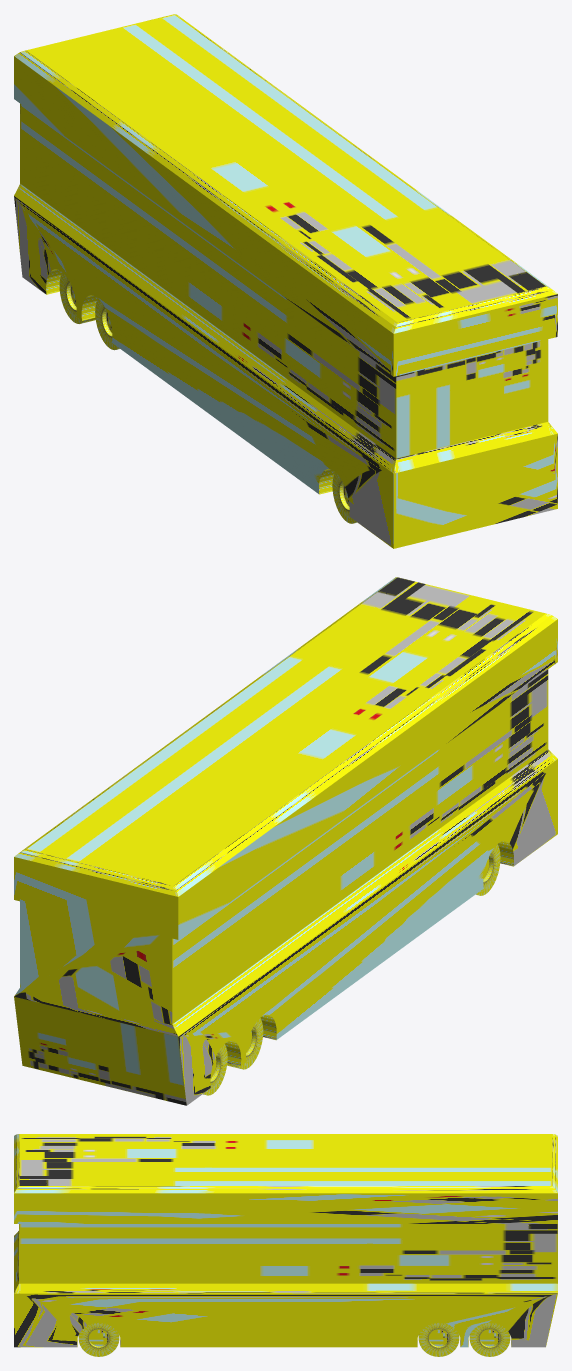
Rendered from bus.obj.
3 views of the same model, one above another, from view 1: azimuth 30°, elevation 25°; view 2: azimuth 150°, elevation 25°; view 3: azimuth 270°, elevation 25° (orthographic). The views are drawn at different scales.
Visible parts, largest first — view 1: Cylinder.002_Cylinder.013; view 2: Cylinder.002_Cylinder.013; view 3: Cylinder.002_Cylinder.013.
Boxes of the visible parts, <box> form: Cylinder.002_Cylinder.013: <box>14,14,557,548</box>; Cylinder.002_Cylinder.013: <box>14,577,557,1105</box>; Cylinder.002_Cylinder.013: <box>14,1134,557,1356</box>.
Size of the model in its own units: 4 by 5.6 by 16.
